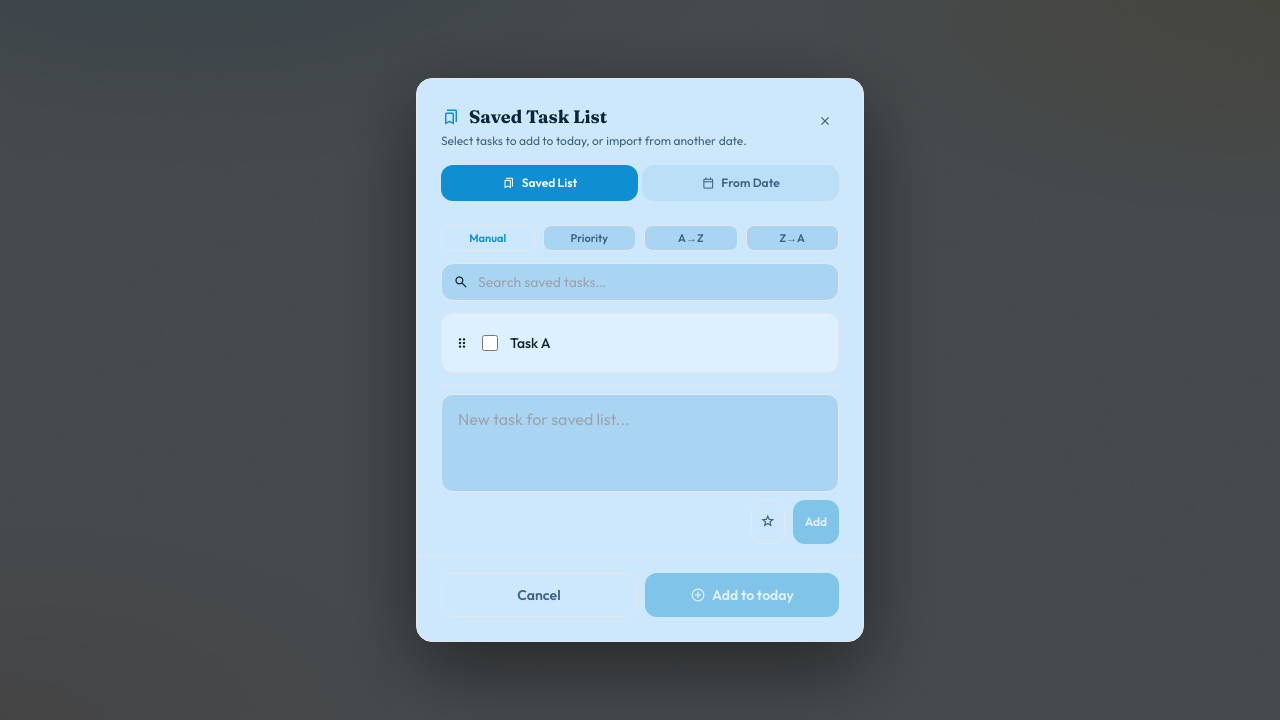
it: list tab (default) › confirm button enables after selecting a task
Click the checkbox: coordinates (490, 343) [482,335,498,351]
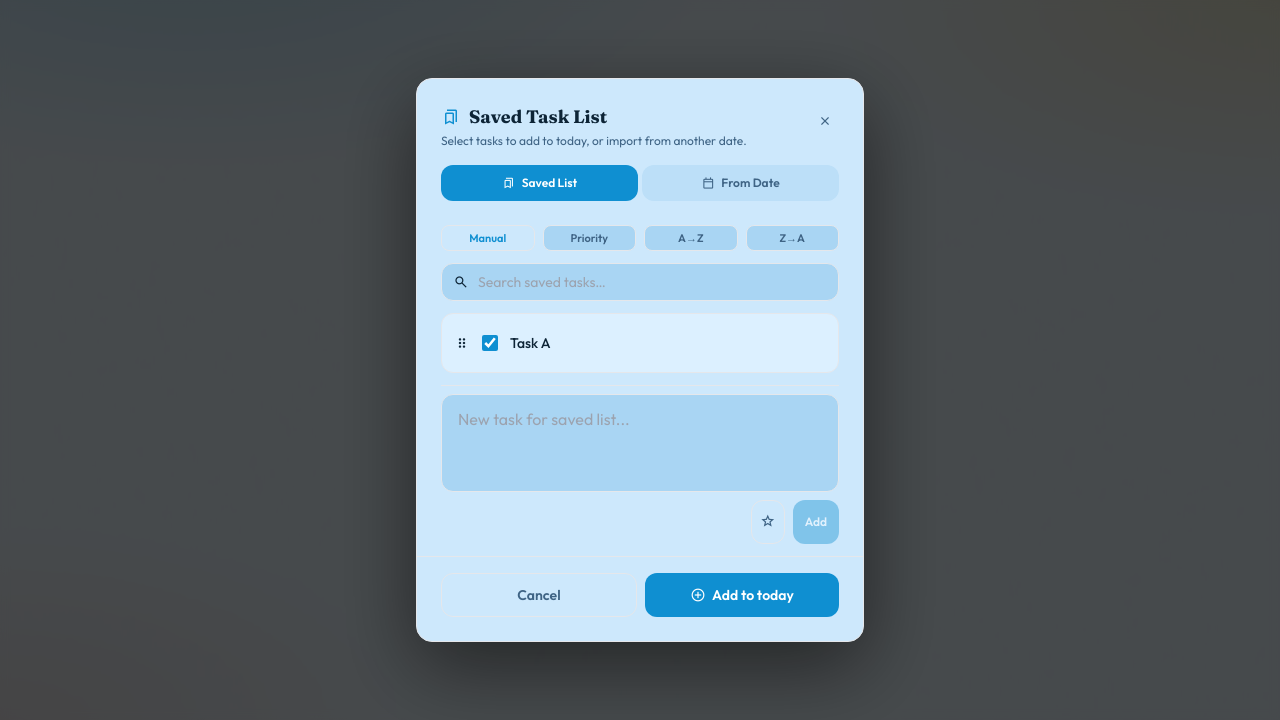
Expected: the button "Add to today" is enabled, [645,573,839,617]
